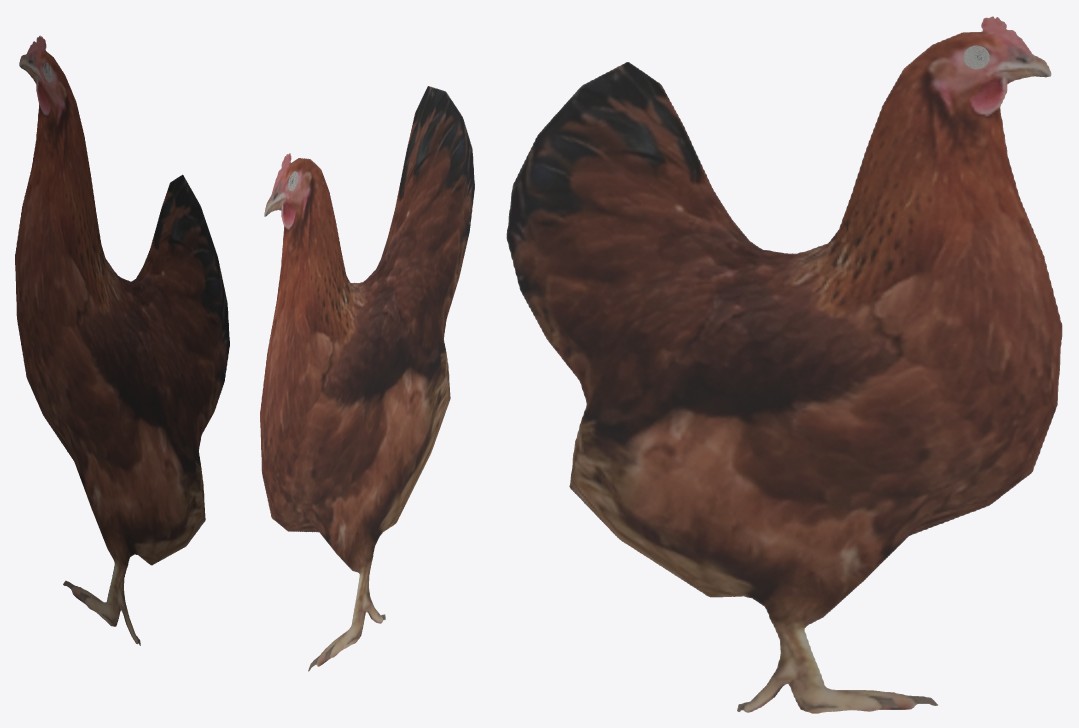
3 renders of one model, left to right at view 1: azimuth 30°, elevation 25°; view 2: azimuth 150°, elevation 25°; view 3: azimuth 270°, elevation 25°, orthographic. The views are drawn at different scales.
Visible parts, largest first — view 1: image_0; view 2: image_0; view 3: image_0.
Part boxes in pixels (x1,y1,x2,y2): image_0: (15, 35, 229, 645); image_0: (260, 86, 474, 671); image_0: (506, 16, 1062, 713).
Bounding box in the file's own units: 1.8e-06 × 9.98 × 13.75.
